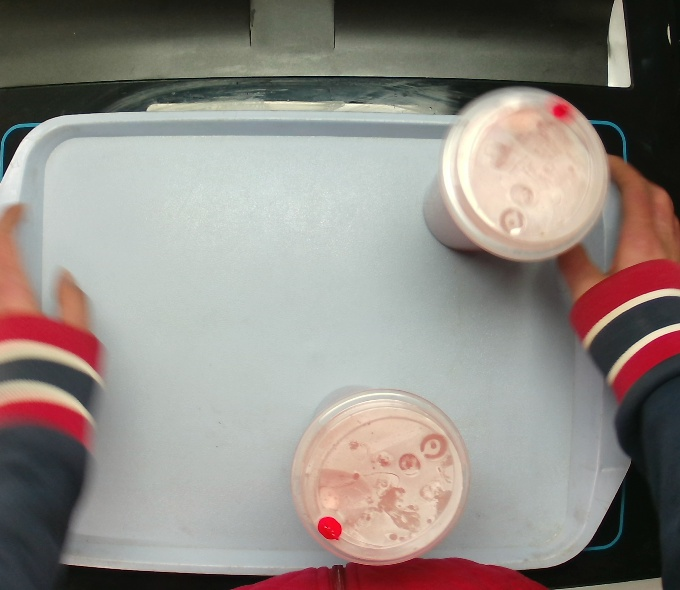wcq-XiGuaZhi: (422, 81, 612, 266), (286, 382, 472, 569)
